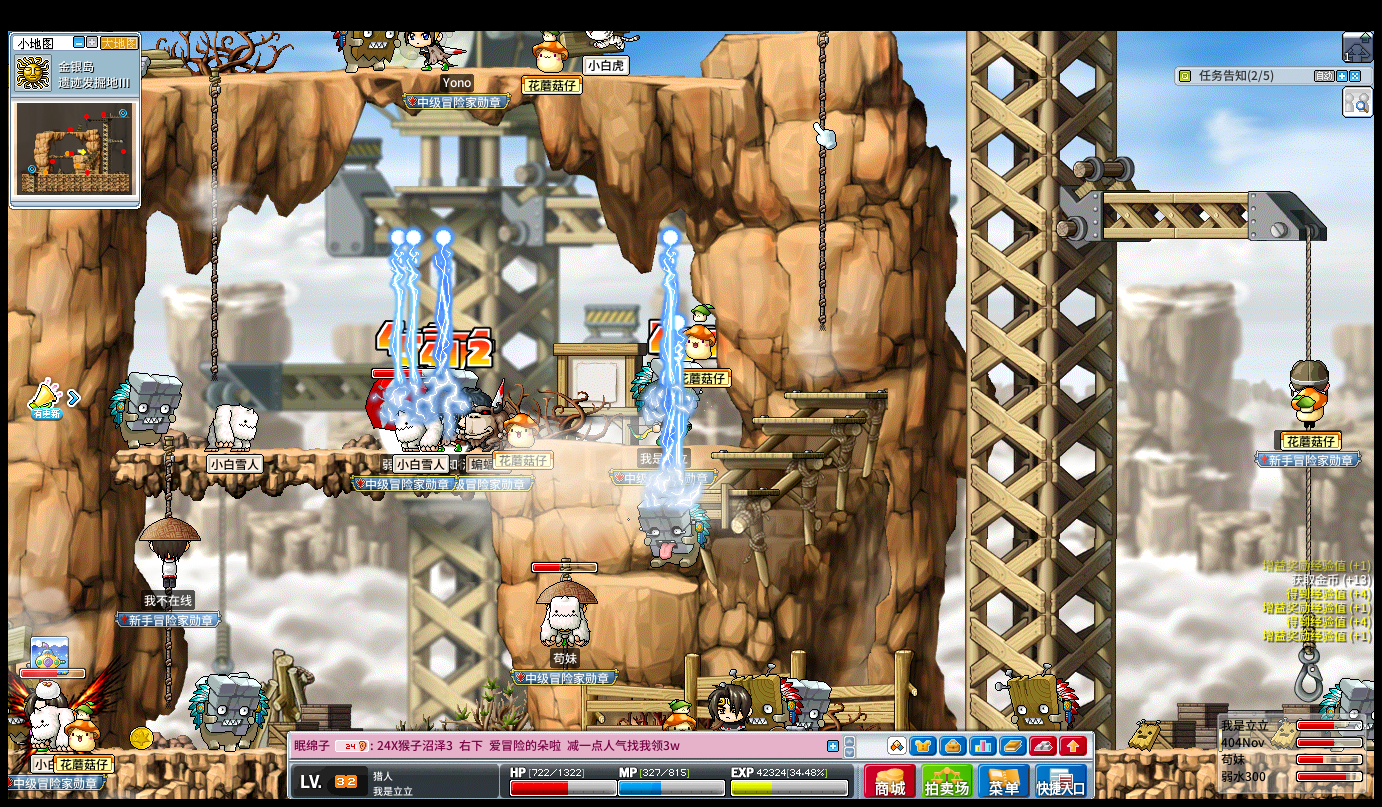floor: (141, 64, 756, 84), (106, 446, 499, 457), (1102, 188, 1291, 203), (590, 572, 698, 596), (590, 441, 758, 452), (747, 415, 855, 424), (691, 488, 775, 498), (784, 391, 888, 399), (709, 451, 824, 458), (697, 489, 776, 496)
monster: (188, 673, 267, 752), (106, 371, 182, 450), (636, 496, 712, 573), (630, 365, 700, 442), (744, 670, 801, 731)
rope: (210, 66, 219, 381), (1302, 234, 1313, 360), (816, 219, 826, 326), (160, 441, 173, 515), (818, 29, 827, 123), (1302, 637, 1315, 695), (162, 628, 171, 710)
